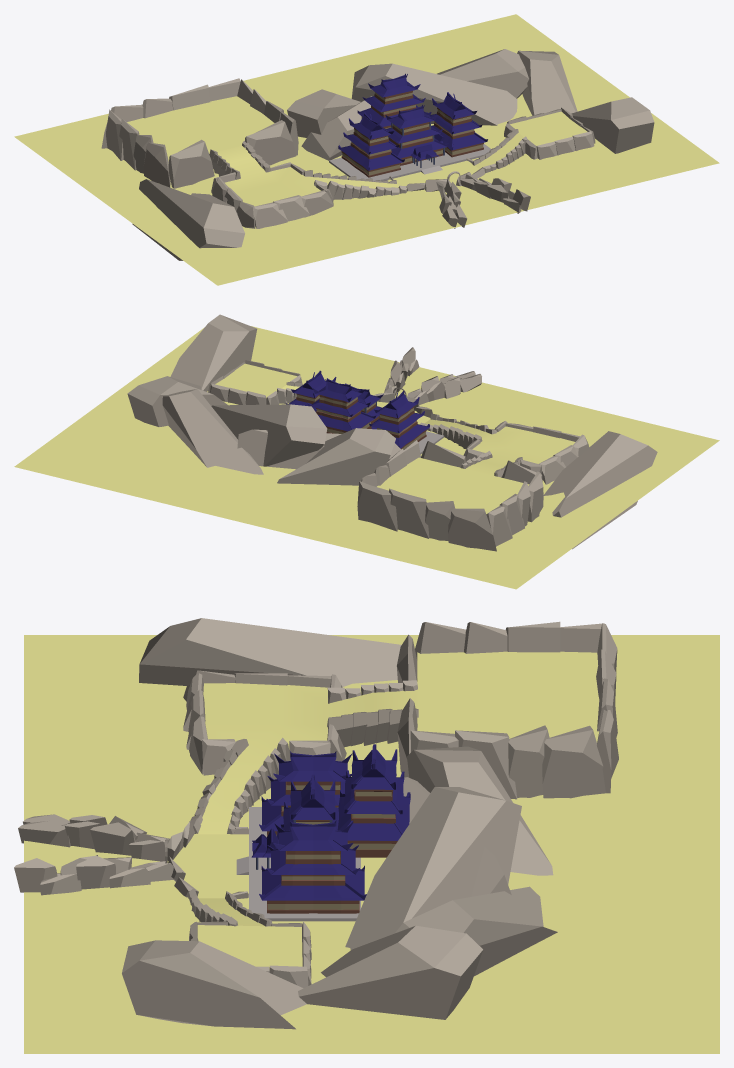
The model's file is ByakkoStage1.fbx.
3 renders of one model, top to bottom at view 1: azimuth 30°, elevation 25°; view 2: azimuth 150°, elevation 25°; view 3: azimuth 270°, elevation 25°, orthographic. The views are drawn at different scales.
Visible parts, largest first — view 1: Plane.009, Cube.101, Plane.002, Plane.007, Plane.001, Plane.003, Plane.008, Cube.095, Cube.002; view 2: Plane.009, Cube.101, Plane.002, Plane.008, Plane.007, Cube.095, Plane.001, Plane.003; view 3: Plane.009, Cube.101, Plane.002, Plane.001, Plane.008, Plane.007, Cube.002, Plane.003, Cube.095.
Boxes of the visible parts, left/top/right/bottom form: Plane.009: left=14, top=14, right=719, bottom=285; Cube.101: left=101, top=49, right=654, bottom=260; Plane.002: left=127, top=96, right=587, bottom=206; Plane.007: left=338, top=112, right=404, bottom=177; Plane.001: left=426, top=92, right=487, bottom=157; Plane.003: left=385, top=105, right=448, bottom=165; Plane.008: left=357, top=73, right=431, bottom=128; Cube.095: left=301, top=96, right=371, bottom=160; Cube.002: left=329, top=144, right=490, bottom=181; Plane.009: left=14, top=326, right=719, bottom=589; Cube.101: left=127, top=314, right=657, bottom=551; Plane.002: left=215, top=363, right=575, bottom=513; Plane.008: left=307, top=378, right=376, bottom=433; Plane.007: left=369, top=391, right=429, bottom=449; Cube.095: left=237, top=429, right=400, bottom=469; Plane.001: left=286, top=370, right=336, bottom=410; Plane.003: left=345, top=383, right=383, bottom=429; Plane.009: left=24, top=635, right=719, bottom=1053; Cube.101: left=14, top=618, right=618, bottom=1029; Plane.002: left=196, top=651, right=599, bottom=968; Plane.001: left=259, top=820, right=366, bottom=913; Plane.008: left=337, top=744, right=410, bottom=857; Plane.007: left=259, top=751, right=352, bottom=836; Cube.002: left=236, top=807, right=360, bottom=921; Plane.003: left=277, top=774, right=338, bottom=839; Cube.095: left=403, top=777, right=511, bottom=896.
Bounding box in the file's own units: 14833 × 3016 × 10561.
